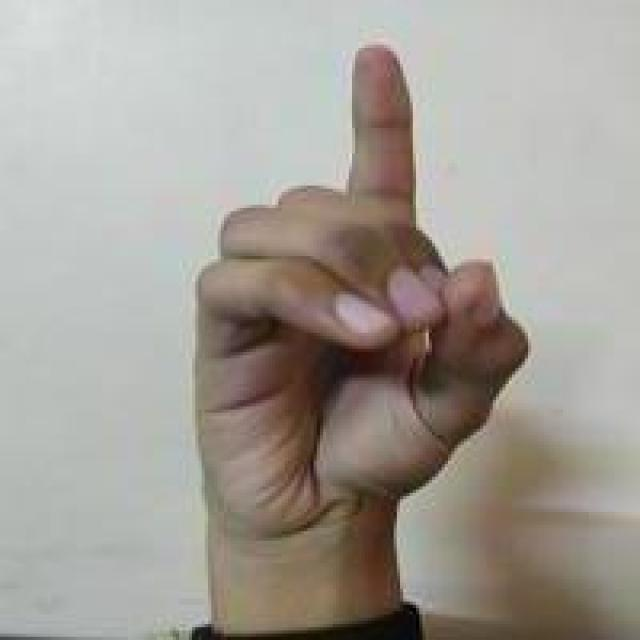D: (190, 42, 533, 586)
